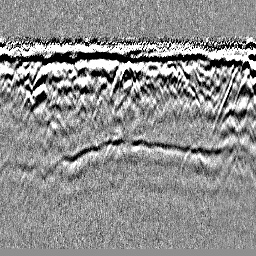cavity: (112, 61, 143, 112)
